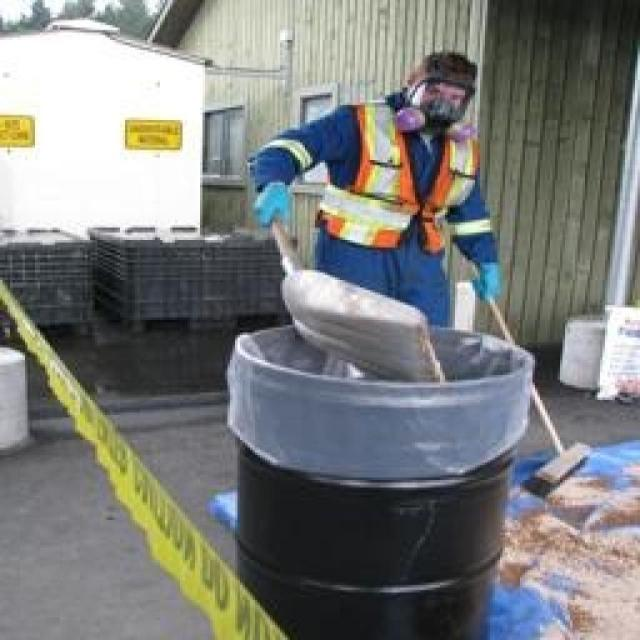Helmet: (382, 34, 478, 137)
Safety Vest: (312, 94, 494, 324)
